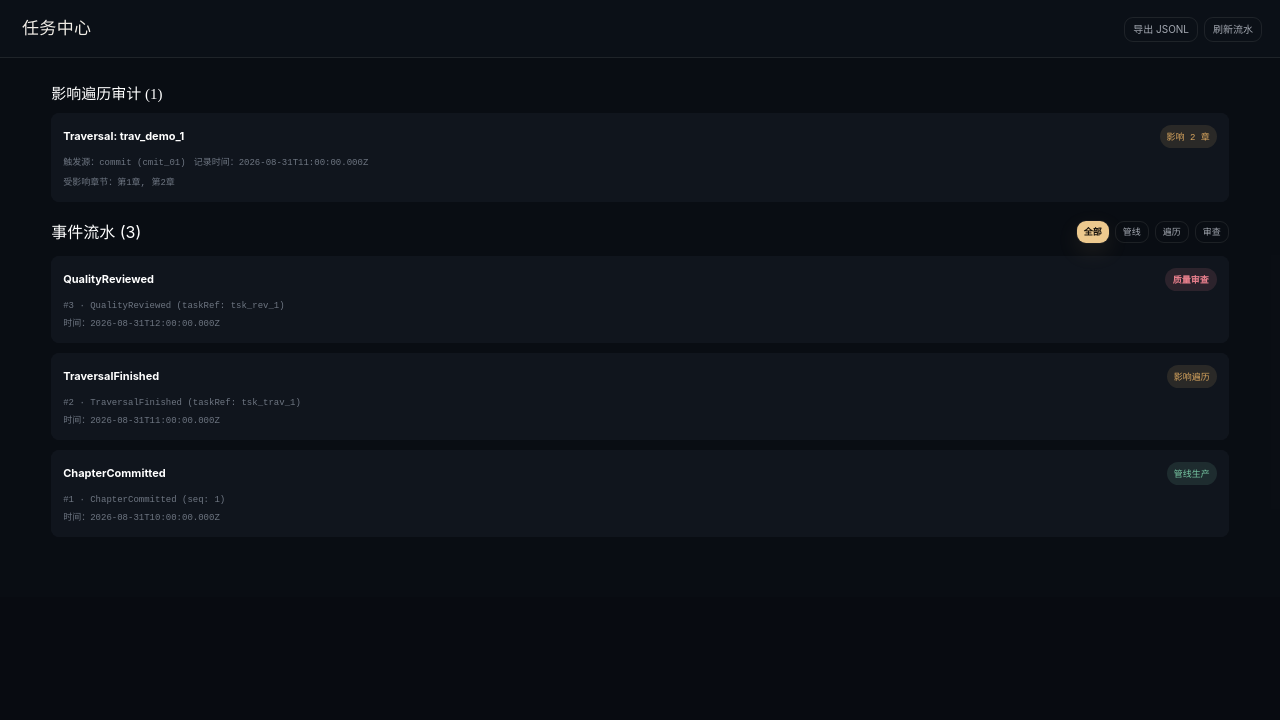
it: TasksView（任务中心） › 事件流水类别筛选交互
The width and height of the screenshot is (1280, 720).
Expected: the element with test id "tasks-events" is shown, [51, 220, 1229, 537]
点击「审查」筛选
Click the button "审查". click: [1212, 232]
box: [1195, 221, 1229, 243]
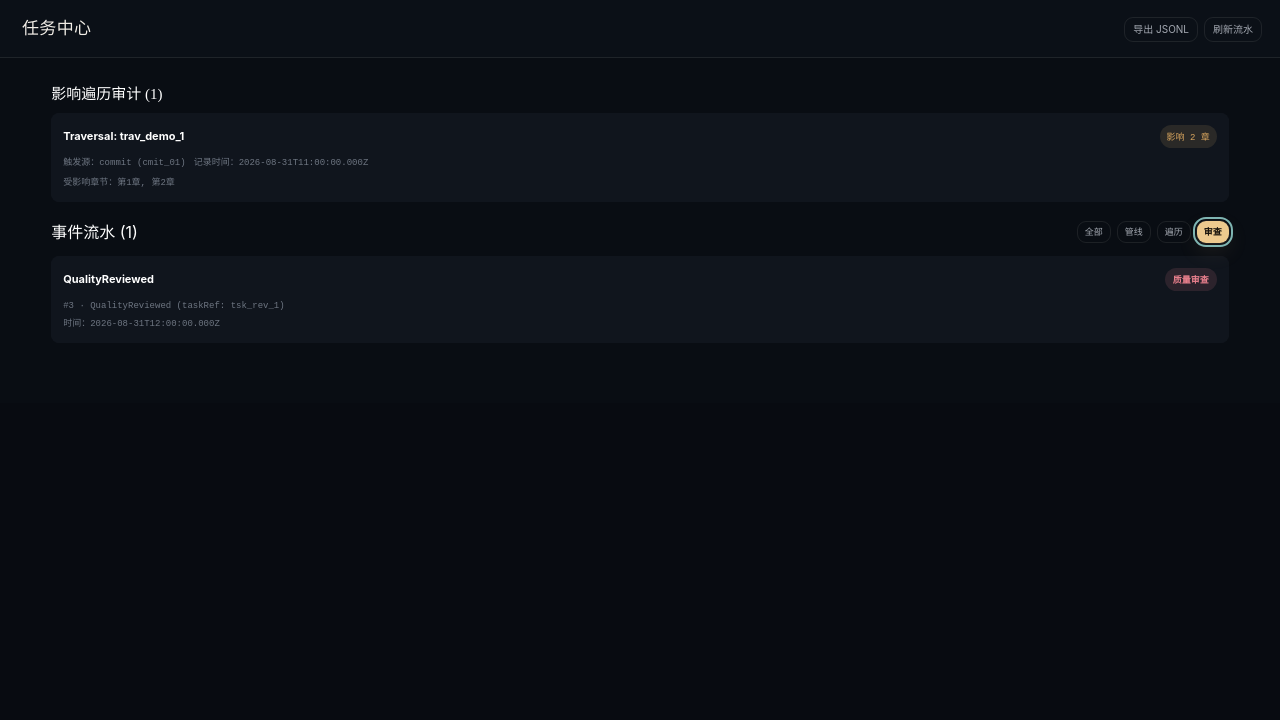
Expected: the element with test id "tasks-events" shows "QualityReviewed", [63, 272, 154, 286]
Expected: the text with test id "tasks-events" no longer shows "ChapterCommitted"
